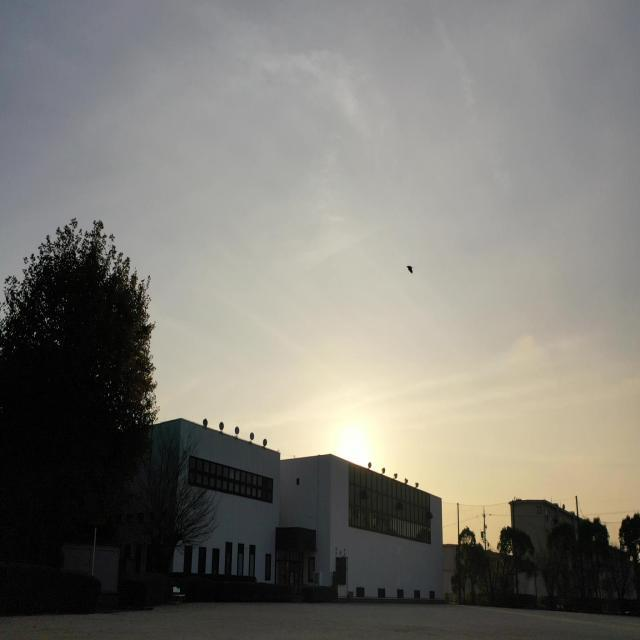Birds: (400, 258, 420, 280)
